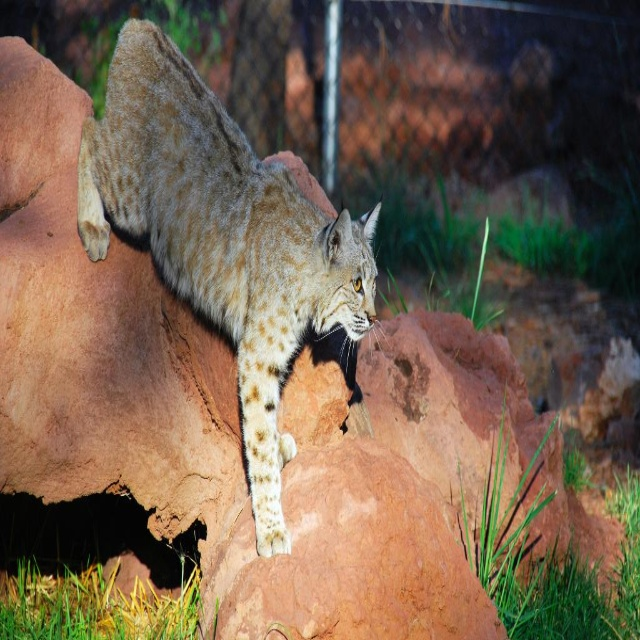Lynx: (79, 18, 394, 557)
